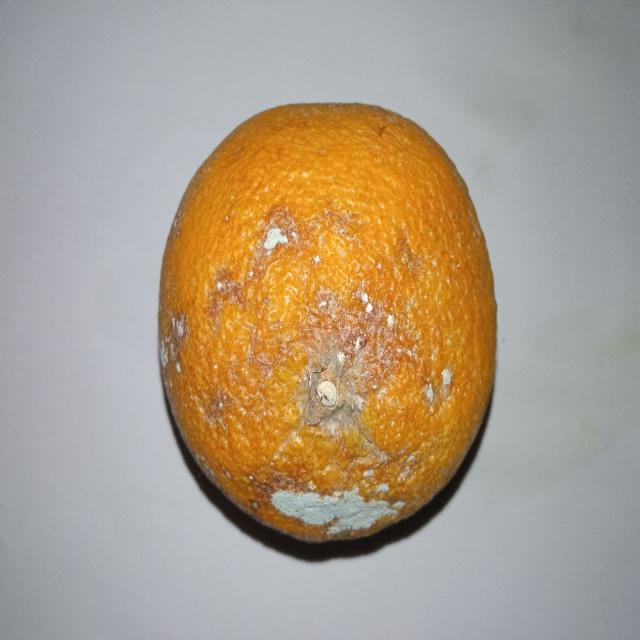rotten_orange: (157, 104, 496, 550)
